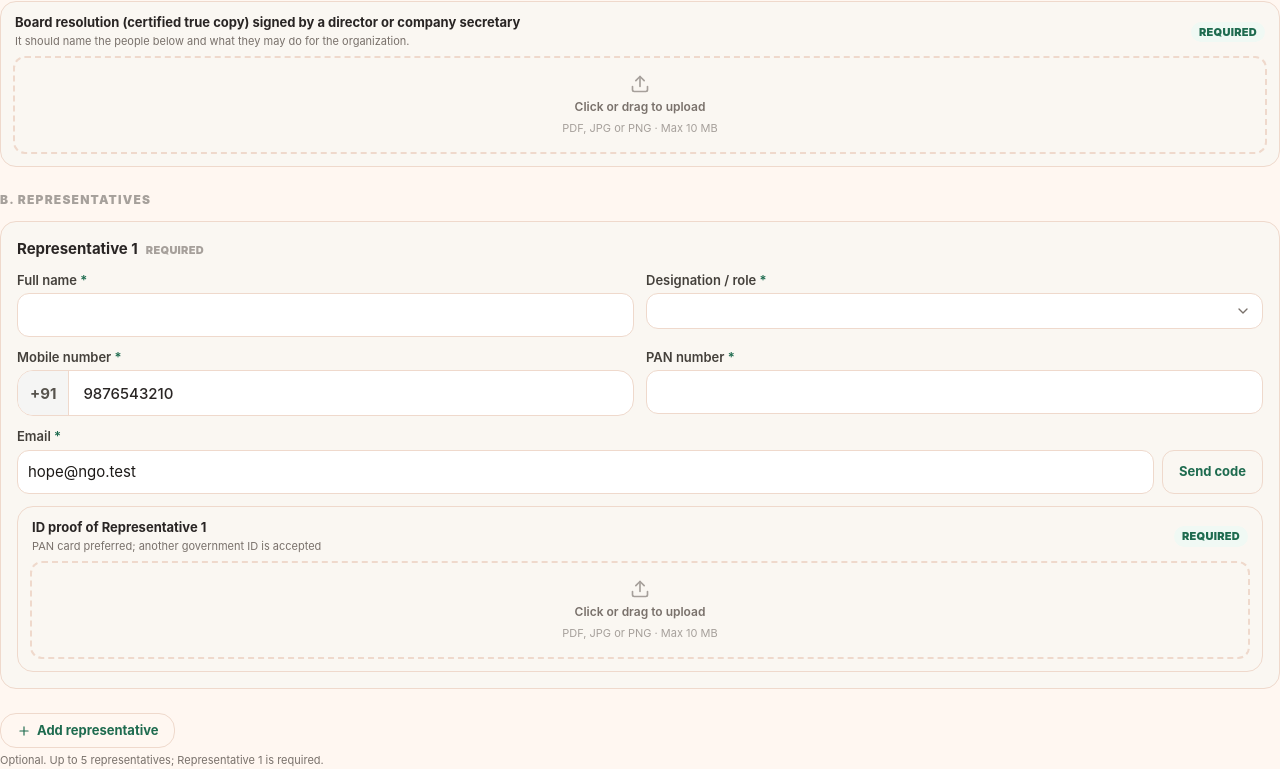
Test: Step 3: Authorized representatives › adds cards up to five and removes the optional ones
This screenshot has width=1280, height=769.
Click the button "Add representative" at (88, 731), box [0,713,176,748]
(page scrolled)
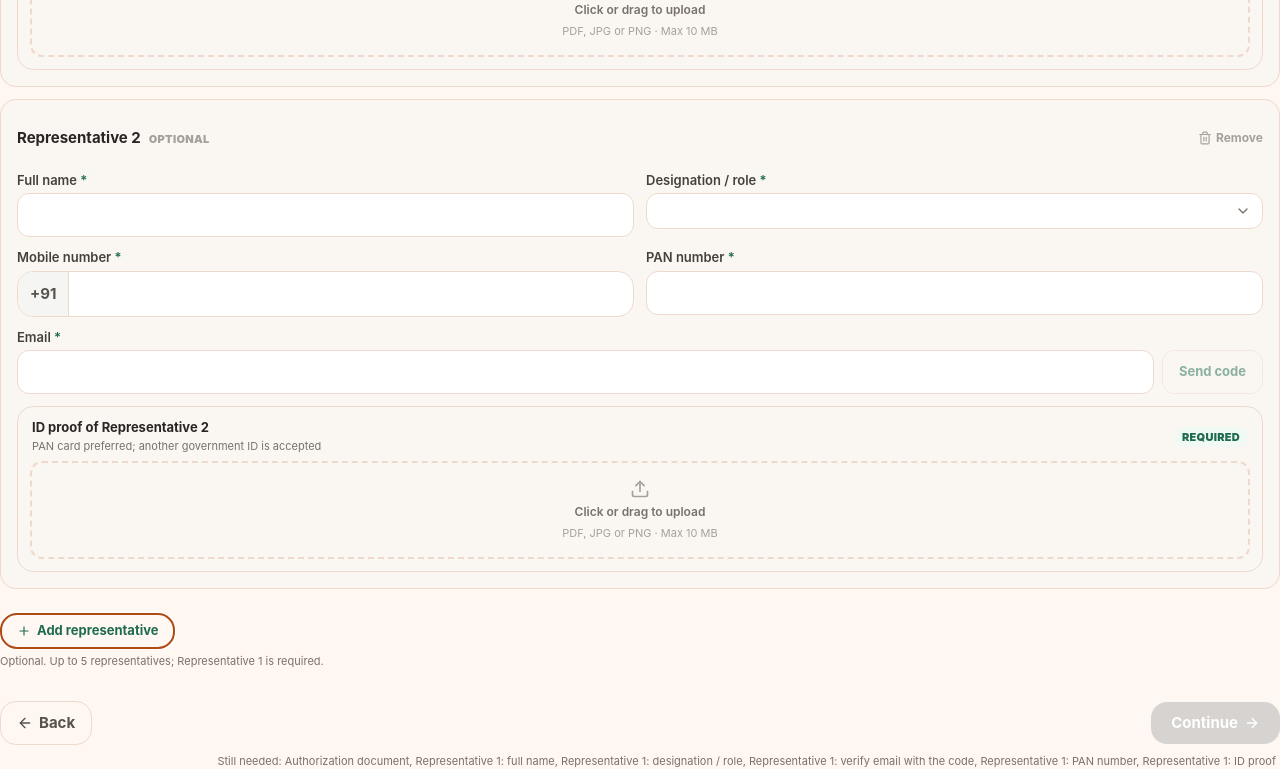
Click the button "Add representative" at (88, 631), box [0,614,176,649]
(page scrolled)
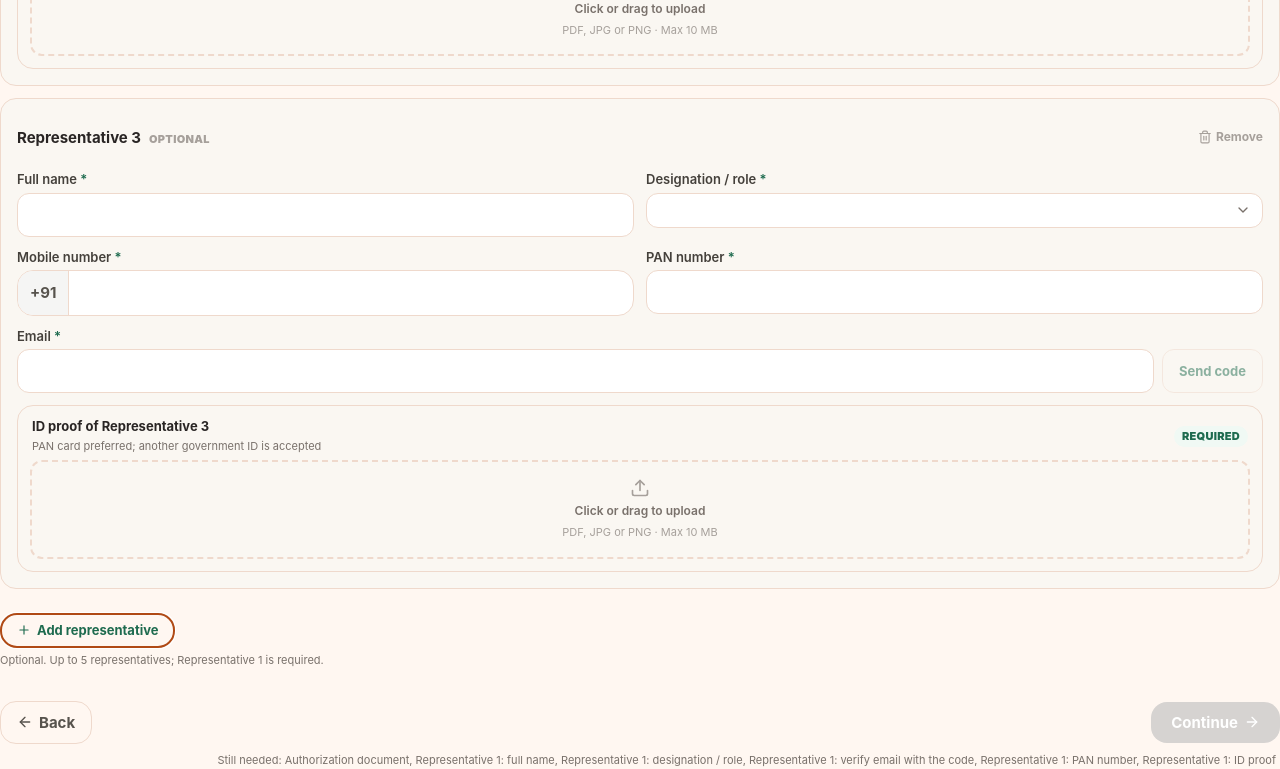
Click the button "Add representative" at (88, 630), box [0,613,176,648]
(page scrolled)
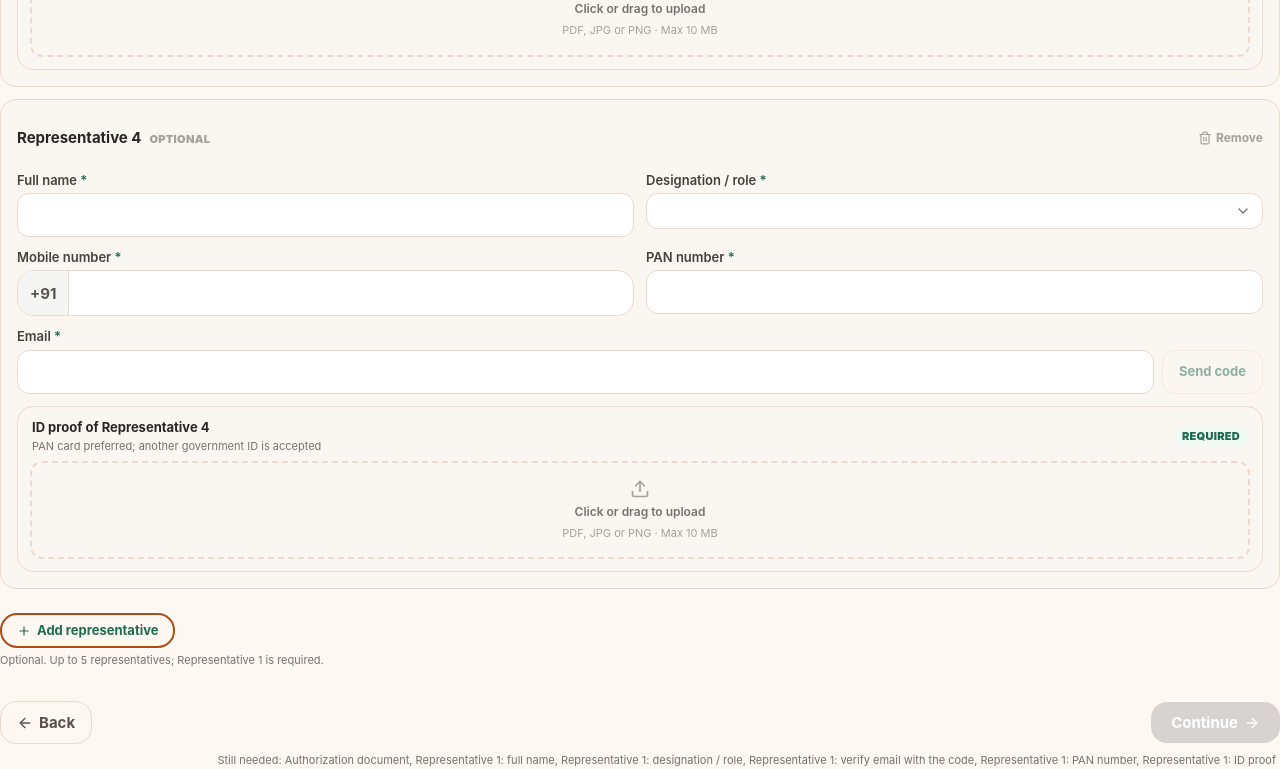
Click the button "Add representative" at (88, 631), box [0,613,176,648]
(page scrolled)
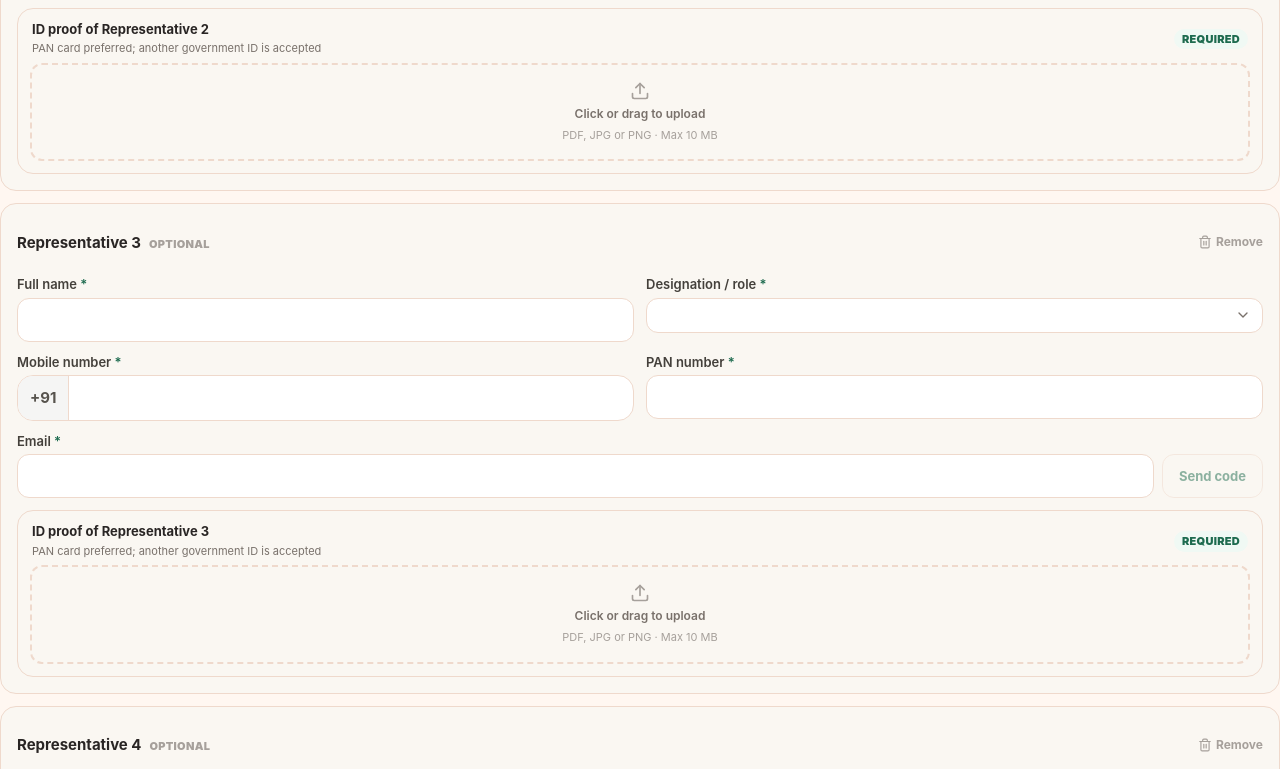
Type "Third Person" into the field labelled "Full name *" at (326, 320), box [17,298,634,342]
(page scrolled)
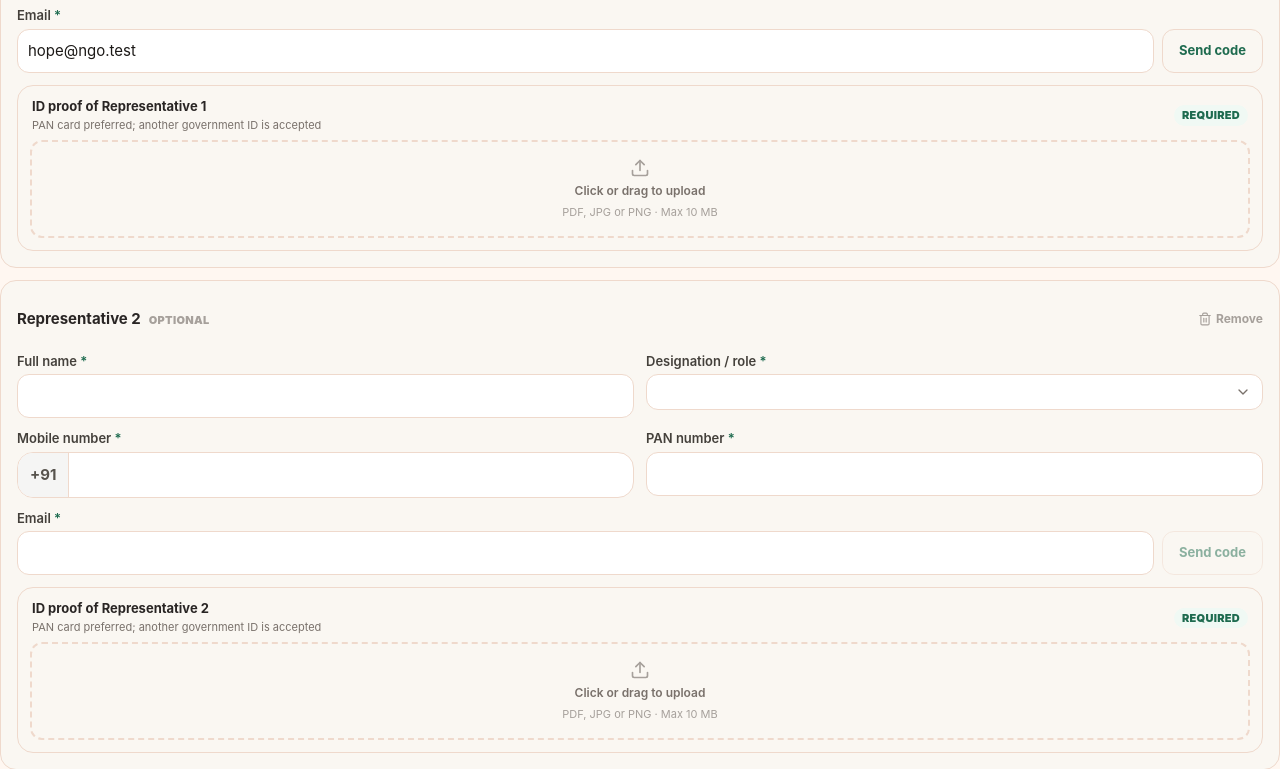
Click the button with aria-label "Remove representative 2" at (1230, 319), box [1198,297,1263,341]
(page scrolled)
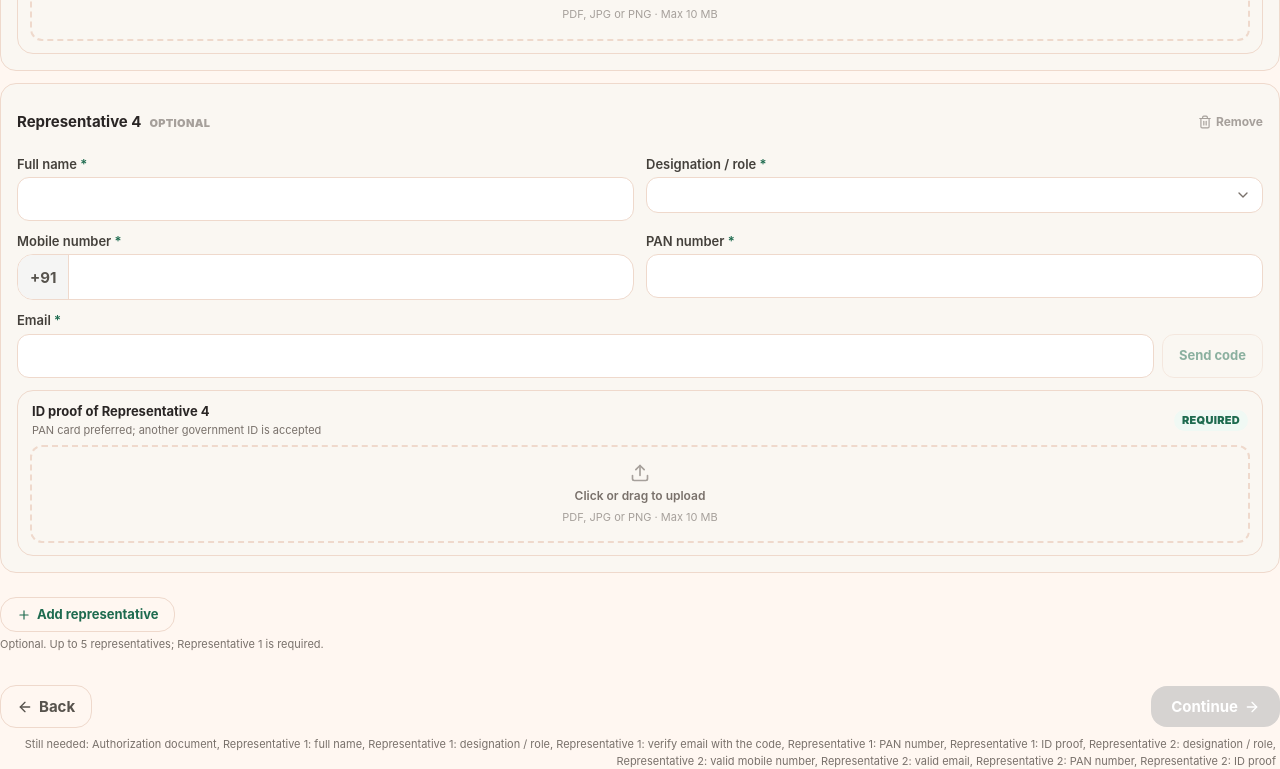
Result: the button "Add representative" is enabled at [0,597,176,632]
